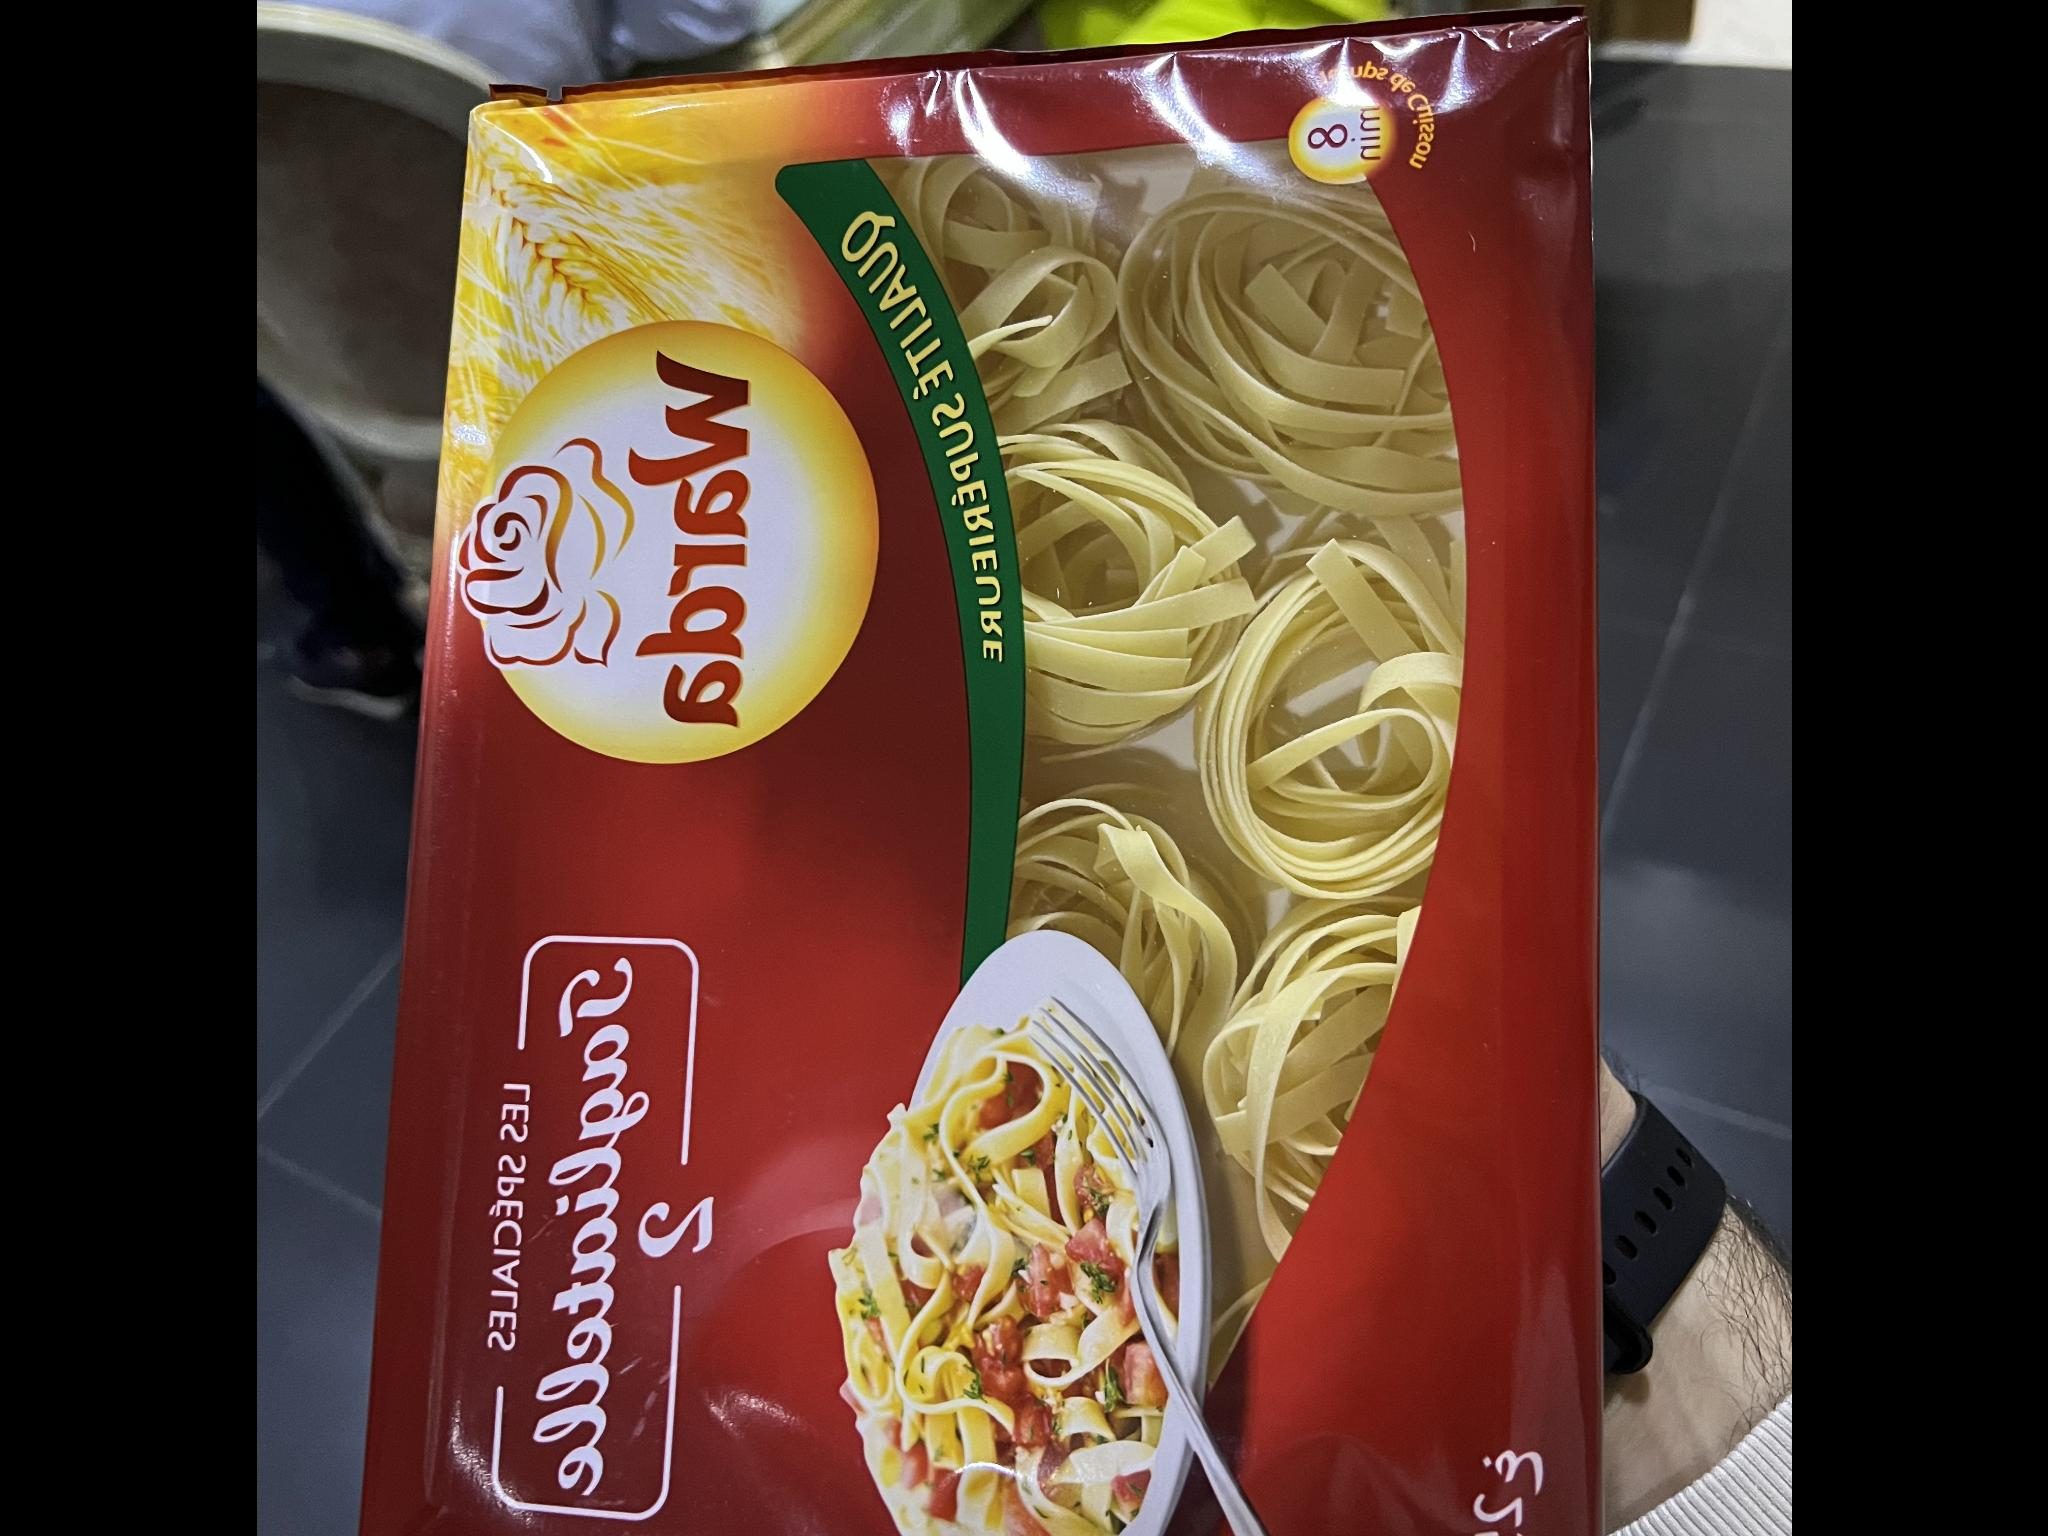Tagliatelle: (350, 0, 1637, 1536)
